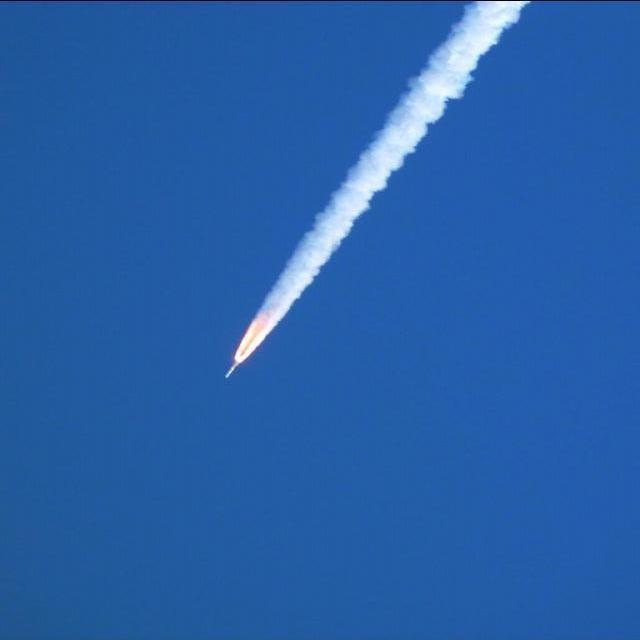missile: (222, 347, 248, 400)
